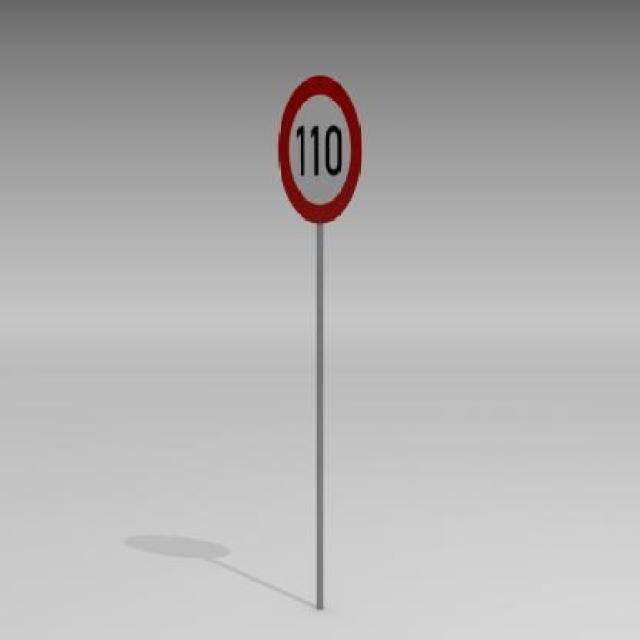forb_speed_over_100: (280, 76, 363, 222)
